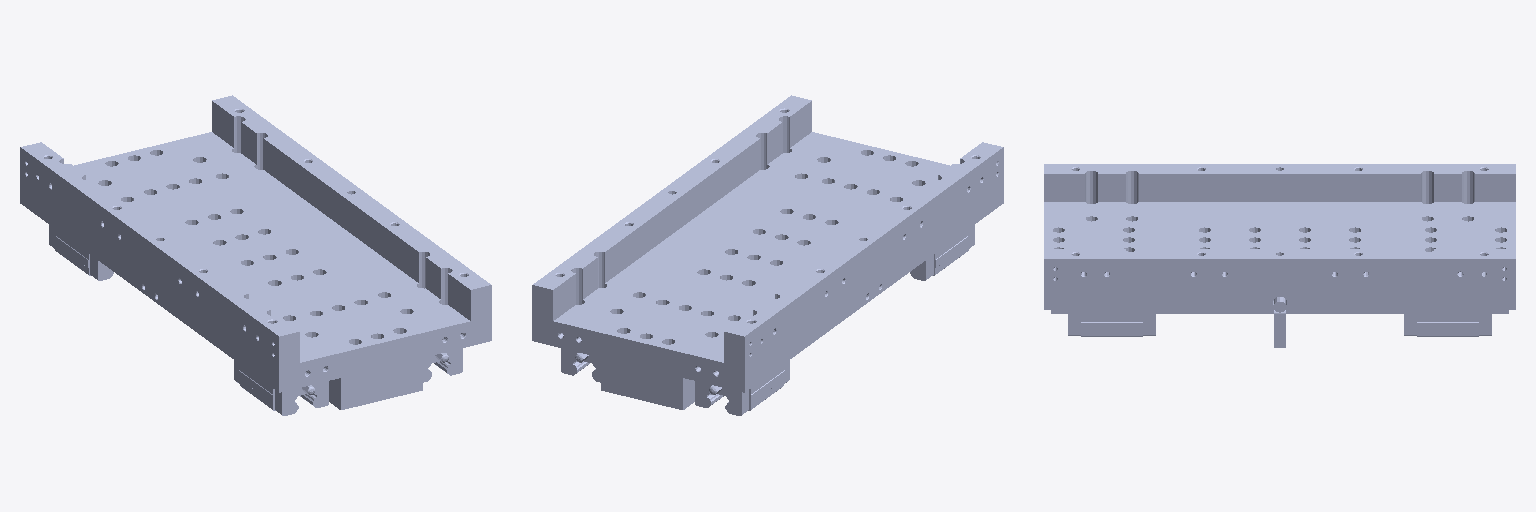
The robot description file, URDF, robot "0000_asm":
<?xml version="1.0" encoding="utf-8"?>
<!-- This URDF was automatically created by SolidWorks to URDF Exporter! Originally created by [author] ([email redacted]) 
     Commit Version: 1.6.0-4-g7f85cfe  Build Version: 1.6.7995.38578
     For more information, please see http://wiki.ros.org/sw_urdf_exporter -->
<robot
  name="0000_asm">
  <link
    name="base_link">
    <inertial>
      <origin
        xyz="-0.607685915579277 3.20251980393755 -1.49932294106974"
        rpy="0 0 0" />
      <mass
        value="27863.4273694736" />
      <inertia
        ixx="605030.774070141"
        ixy="8.72172658999251E-05"
        ixz="-5.98710313480858"
        iyy="607408.942105912"
        iyz="-0.00337587294146851"
        izz="536170.70884591" />
    </inertial>
    <visual>
      <origin
        xyz="0 0 0"
        rpy="0 0 0" />
      <geometry>
        <mesh
          filename="package://0000_asm/meshes/base_link.STL" />
      </geometry>
      <material
        name="">
        <color
          rgba="0.792156862745098 0.819607843137255 0.933333333333333 1" />
      </material>
    </visual>
    <collision>
      <origin
        xyz="0 0 0"
        rpy="0 0 0" />
      <geometry>
        <mesh
          filename="package://0000_asm/meshes/base_link.STL" />
      </geometry>
    </collision>
  </link>
</robot>

--- What the picture shows (computed from the rendered views, not written in the file) ---
The picture shows the robot from 3 angles, left to right: view 1: azimuth 30°, elevation 25°; view 2: azimuth 150°, elevation 25°; view 3: azimuth 270°, elevation 25°; orthographic projection.
Model 0000_asm with 1 links and 0 joints (none), rooted at base_link, posed all joints at 0.
Links seen in each view (by area): view 1: base_link; view 2: base_link; view 3: base_link.
Boxes of the visible links, x1,y1,x2,y2 form: base_link: (20,95,491,415); base_link: (532,95,1003,415); base_link: (1044,164,1515,347).
Bounding box of the posed robot: 0.7841 × 1.58 × 0.3274 m (x, y, z).
Meshes: 1 distinct files referenced, 1 mesh visuals loaded (1 binary STL).